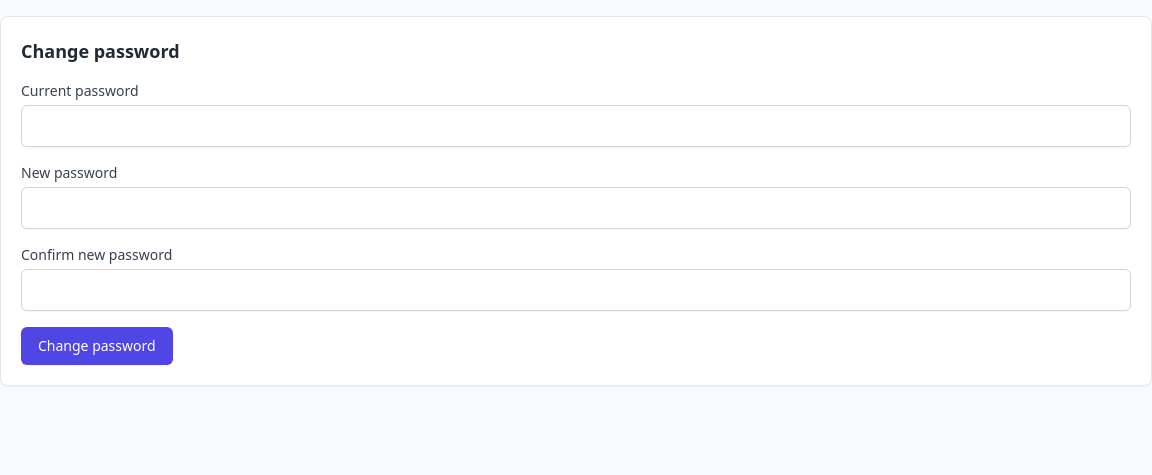
Test: ChangePasswordForm › shows a message for each empty field and sends nothing
The width and height of the screenshot is (1152, 475).
Step 1. Click the button "Change password" → {"x": 97, "y": 346}, box [21,327,173,365]
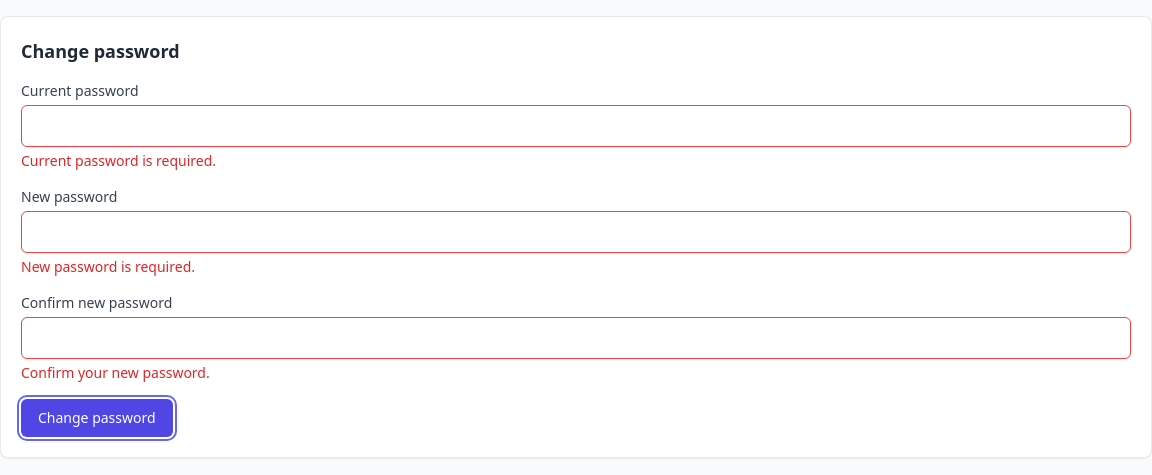
Result: the text "Current password is required." is shown at [21,151,216,170]
Result: the text "New password is required." is shown at [21,257,195,276]
Result: the text "Confirm your new password." is shown at [21,363,210,382]
